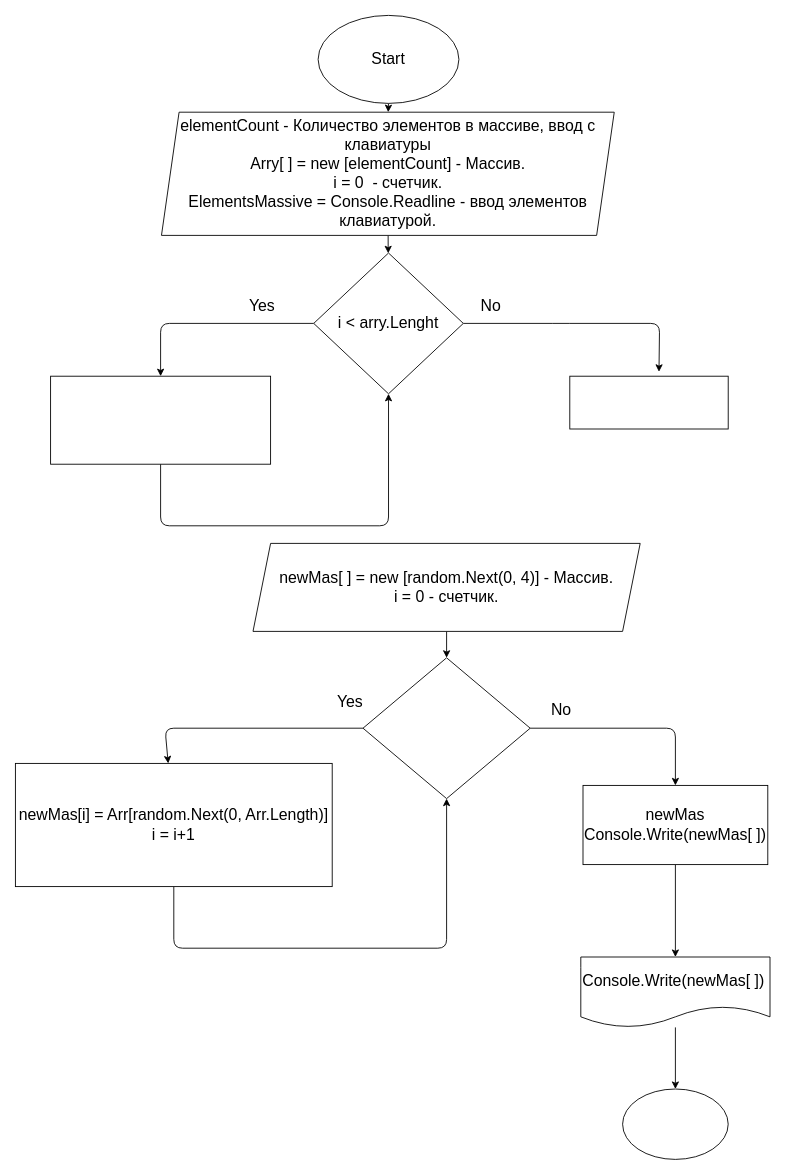
This 786x1175 diagram has some shape labels left out. The shapes that lost their labels are listed below. From the top down, each one's centre as x and y in pixels, then its label:
At point (160, 419): "Arr[i] = ElementsMassive i = i + 1".
At point (648, 402): "Arry[ ] Console.Write(Arry[ ])".
At point (446, 728): "i < newMas.Length".
At point (675, 1123): "End".
